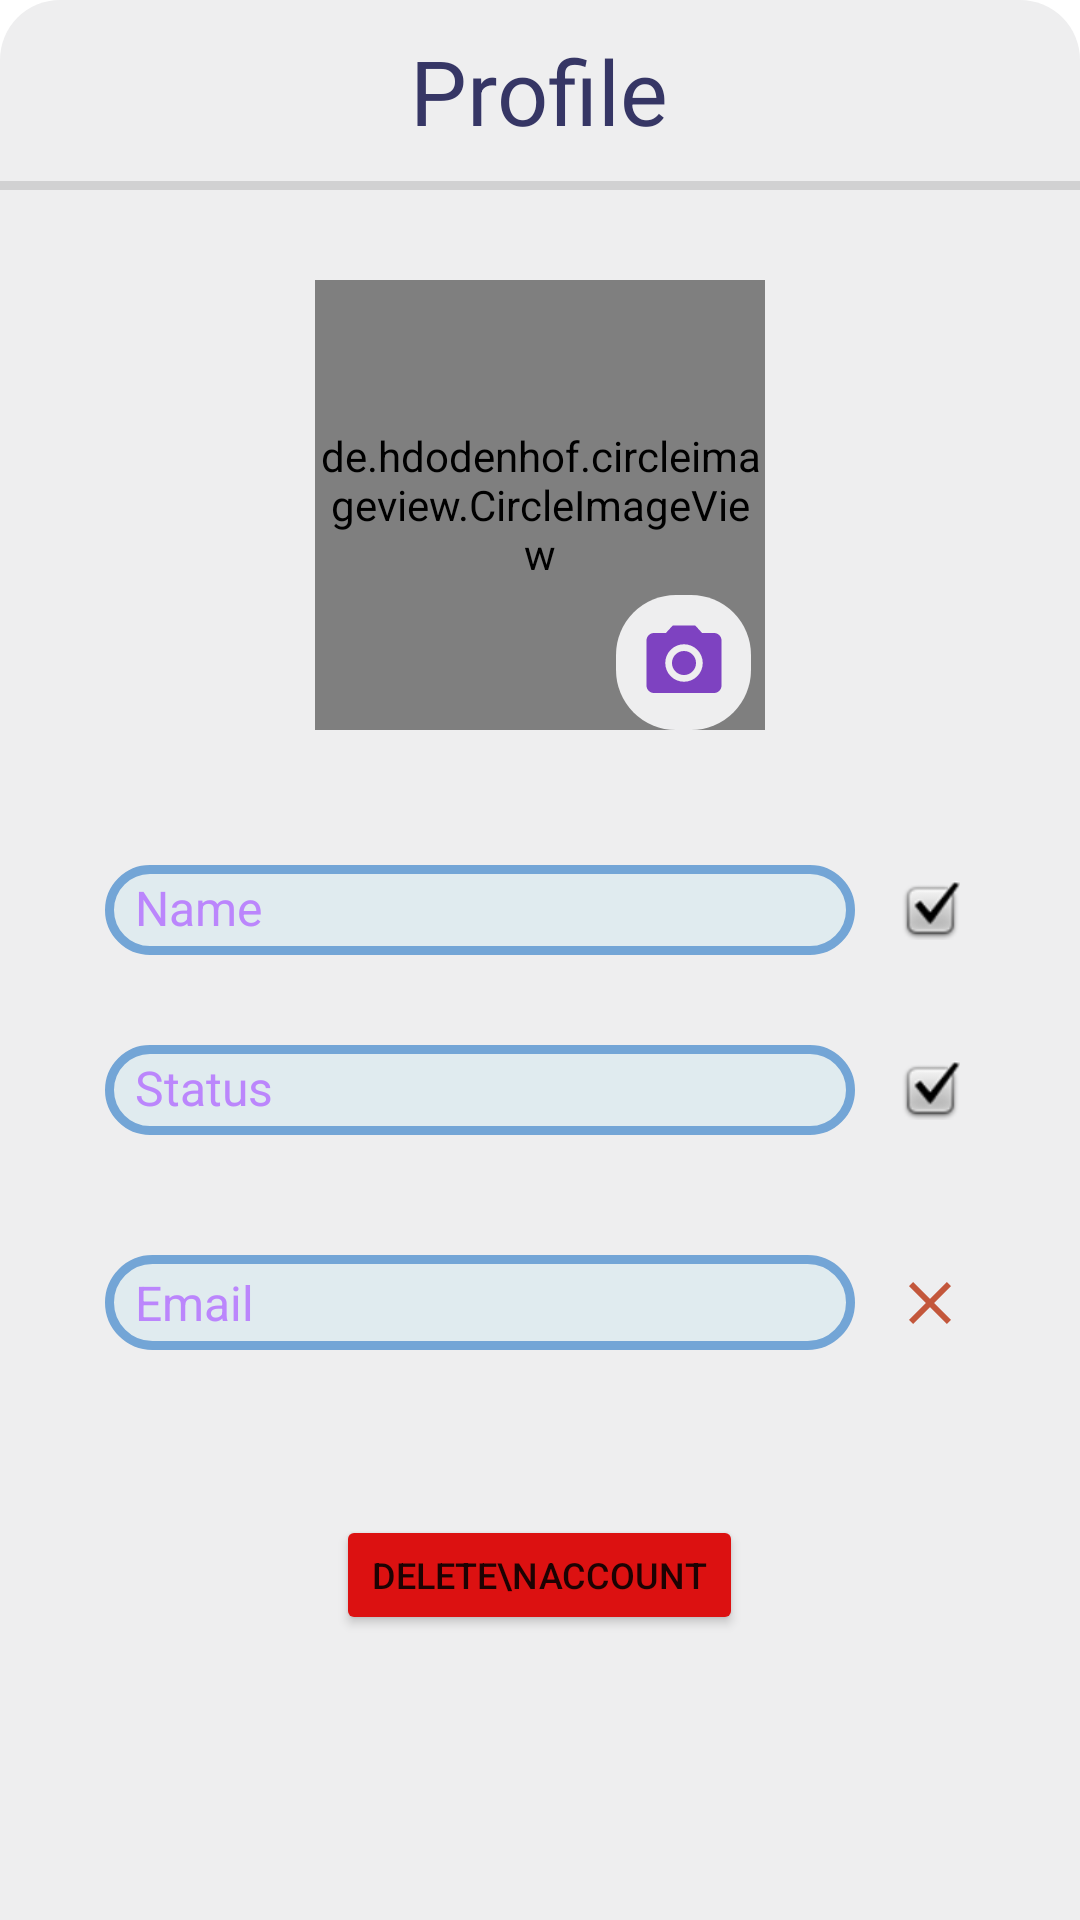

Screen size 1080*1920. Icon name, then its center in pixels as [x,y]:
notverified: [930,1303]
